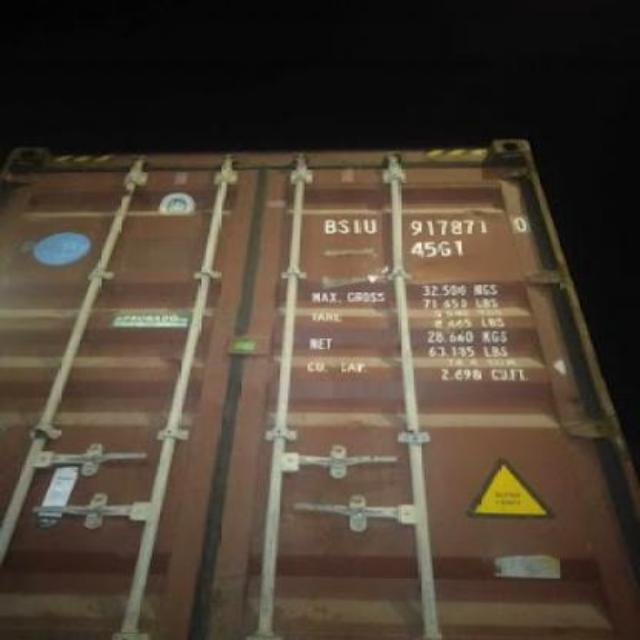0: (510, 210, 530, 234)
1: (422, 211, 436, 237), (476, 212, 488, 240)
7: (436, 212, 448, 238), (462, 214, 474, 236)
8: (450, 209, 462, 235)
9: (408, 212, 422, 238)
B: (322, 213, 338, 237)
I: (350, 211, 362, 237)
S: (338, 213, 350, 237)
U: (360, 214, 378, 236)
